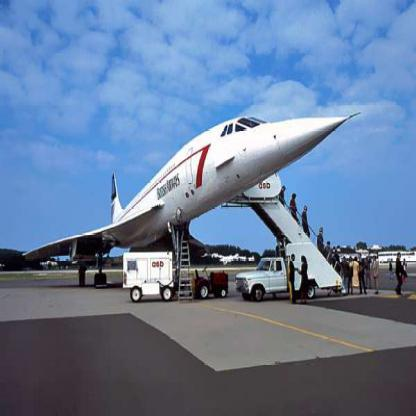CIV_Plane: (14, 108, 365, 306)
